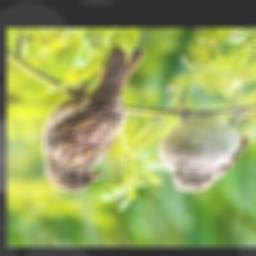Sparrow: (42, 45, 143, 193), (158, 104, 250, 191)
